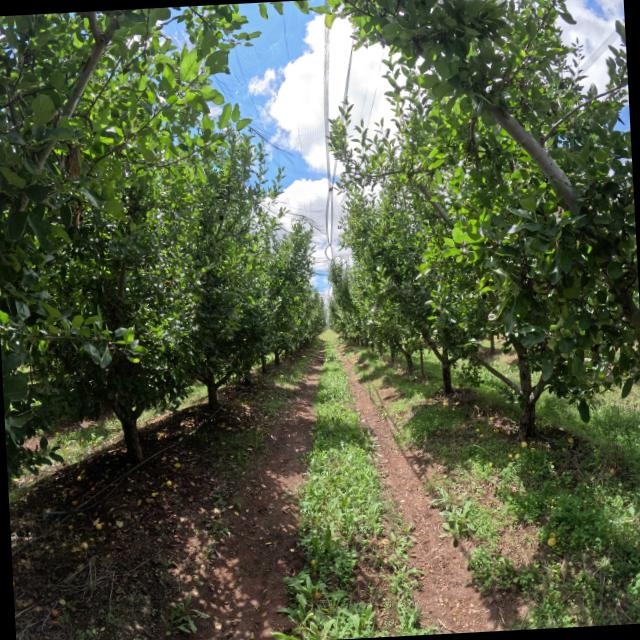-FireBlight-: (64, 139, 84, 181), (72, 201, 83, 225)
